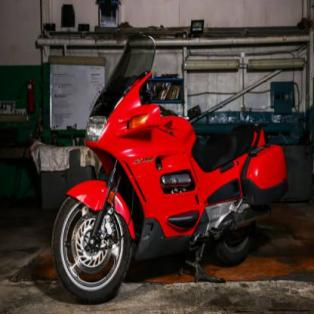Motocicleta: (49, 35, 282, 307)
